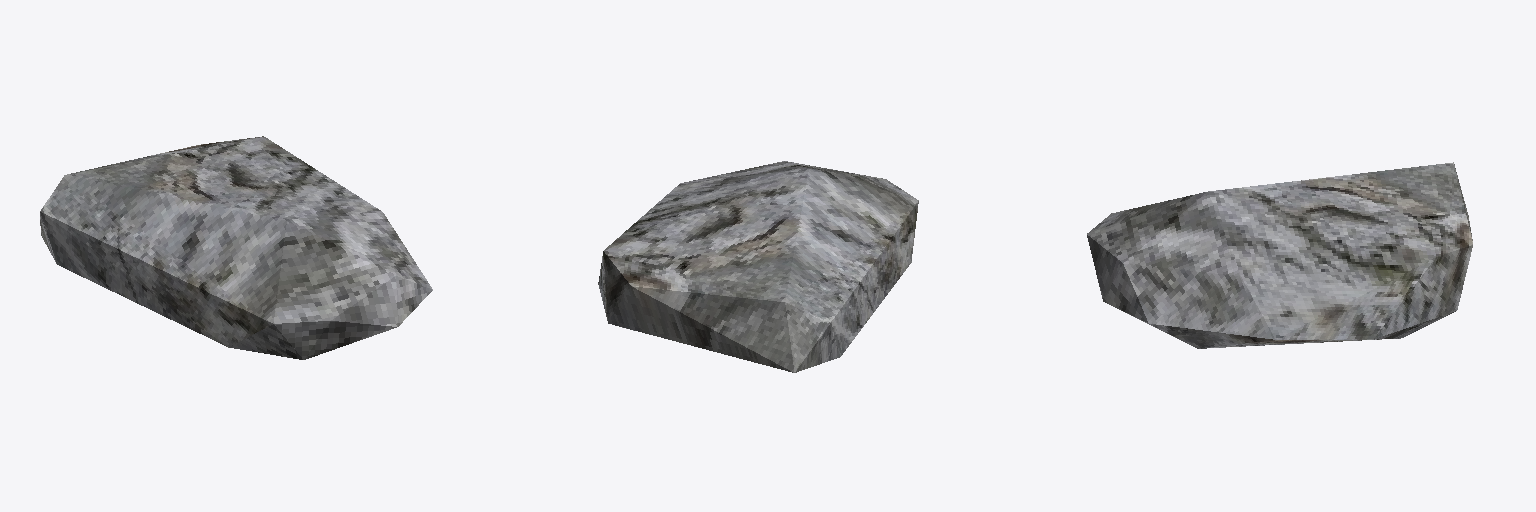
3 views of the same model, side by side, from view 1: azimuth 30°, elevation 25°; view 2: azimuth 150°, elevation 25°; view 3: azimuth 270°, elevation 25° (orthographic).
Visible parts, largest first — view 1: rocksquare8; view 2: rocksquare8; view 3: rocksquare8.
Part boxes in pixels (bbox=[...]): rocksquare8: bbox=[40, 136, 432, 359]; rocksquare8: bbox=[598, 161, 918, 372]; rocksquare8: bbox=[1087, 162, 1472, 348].
Bounding box in the file's own units: 2.9 × 1.24 × 3.5.
1 materials, 1 textured.